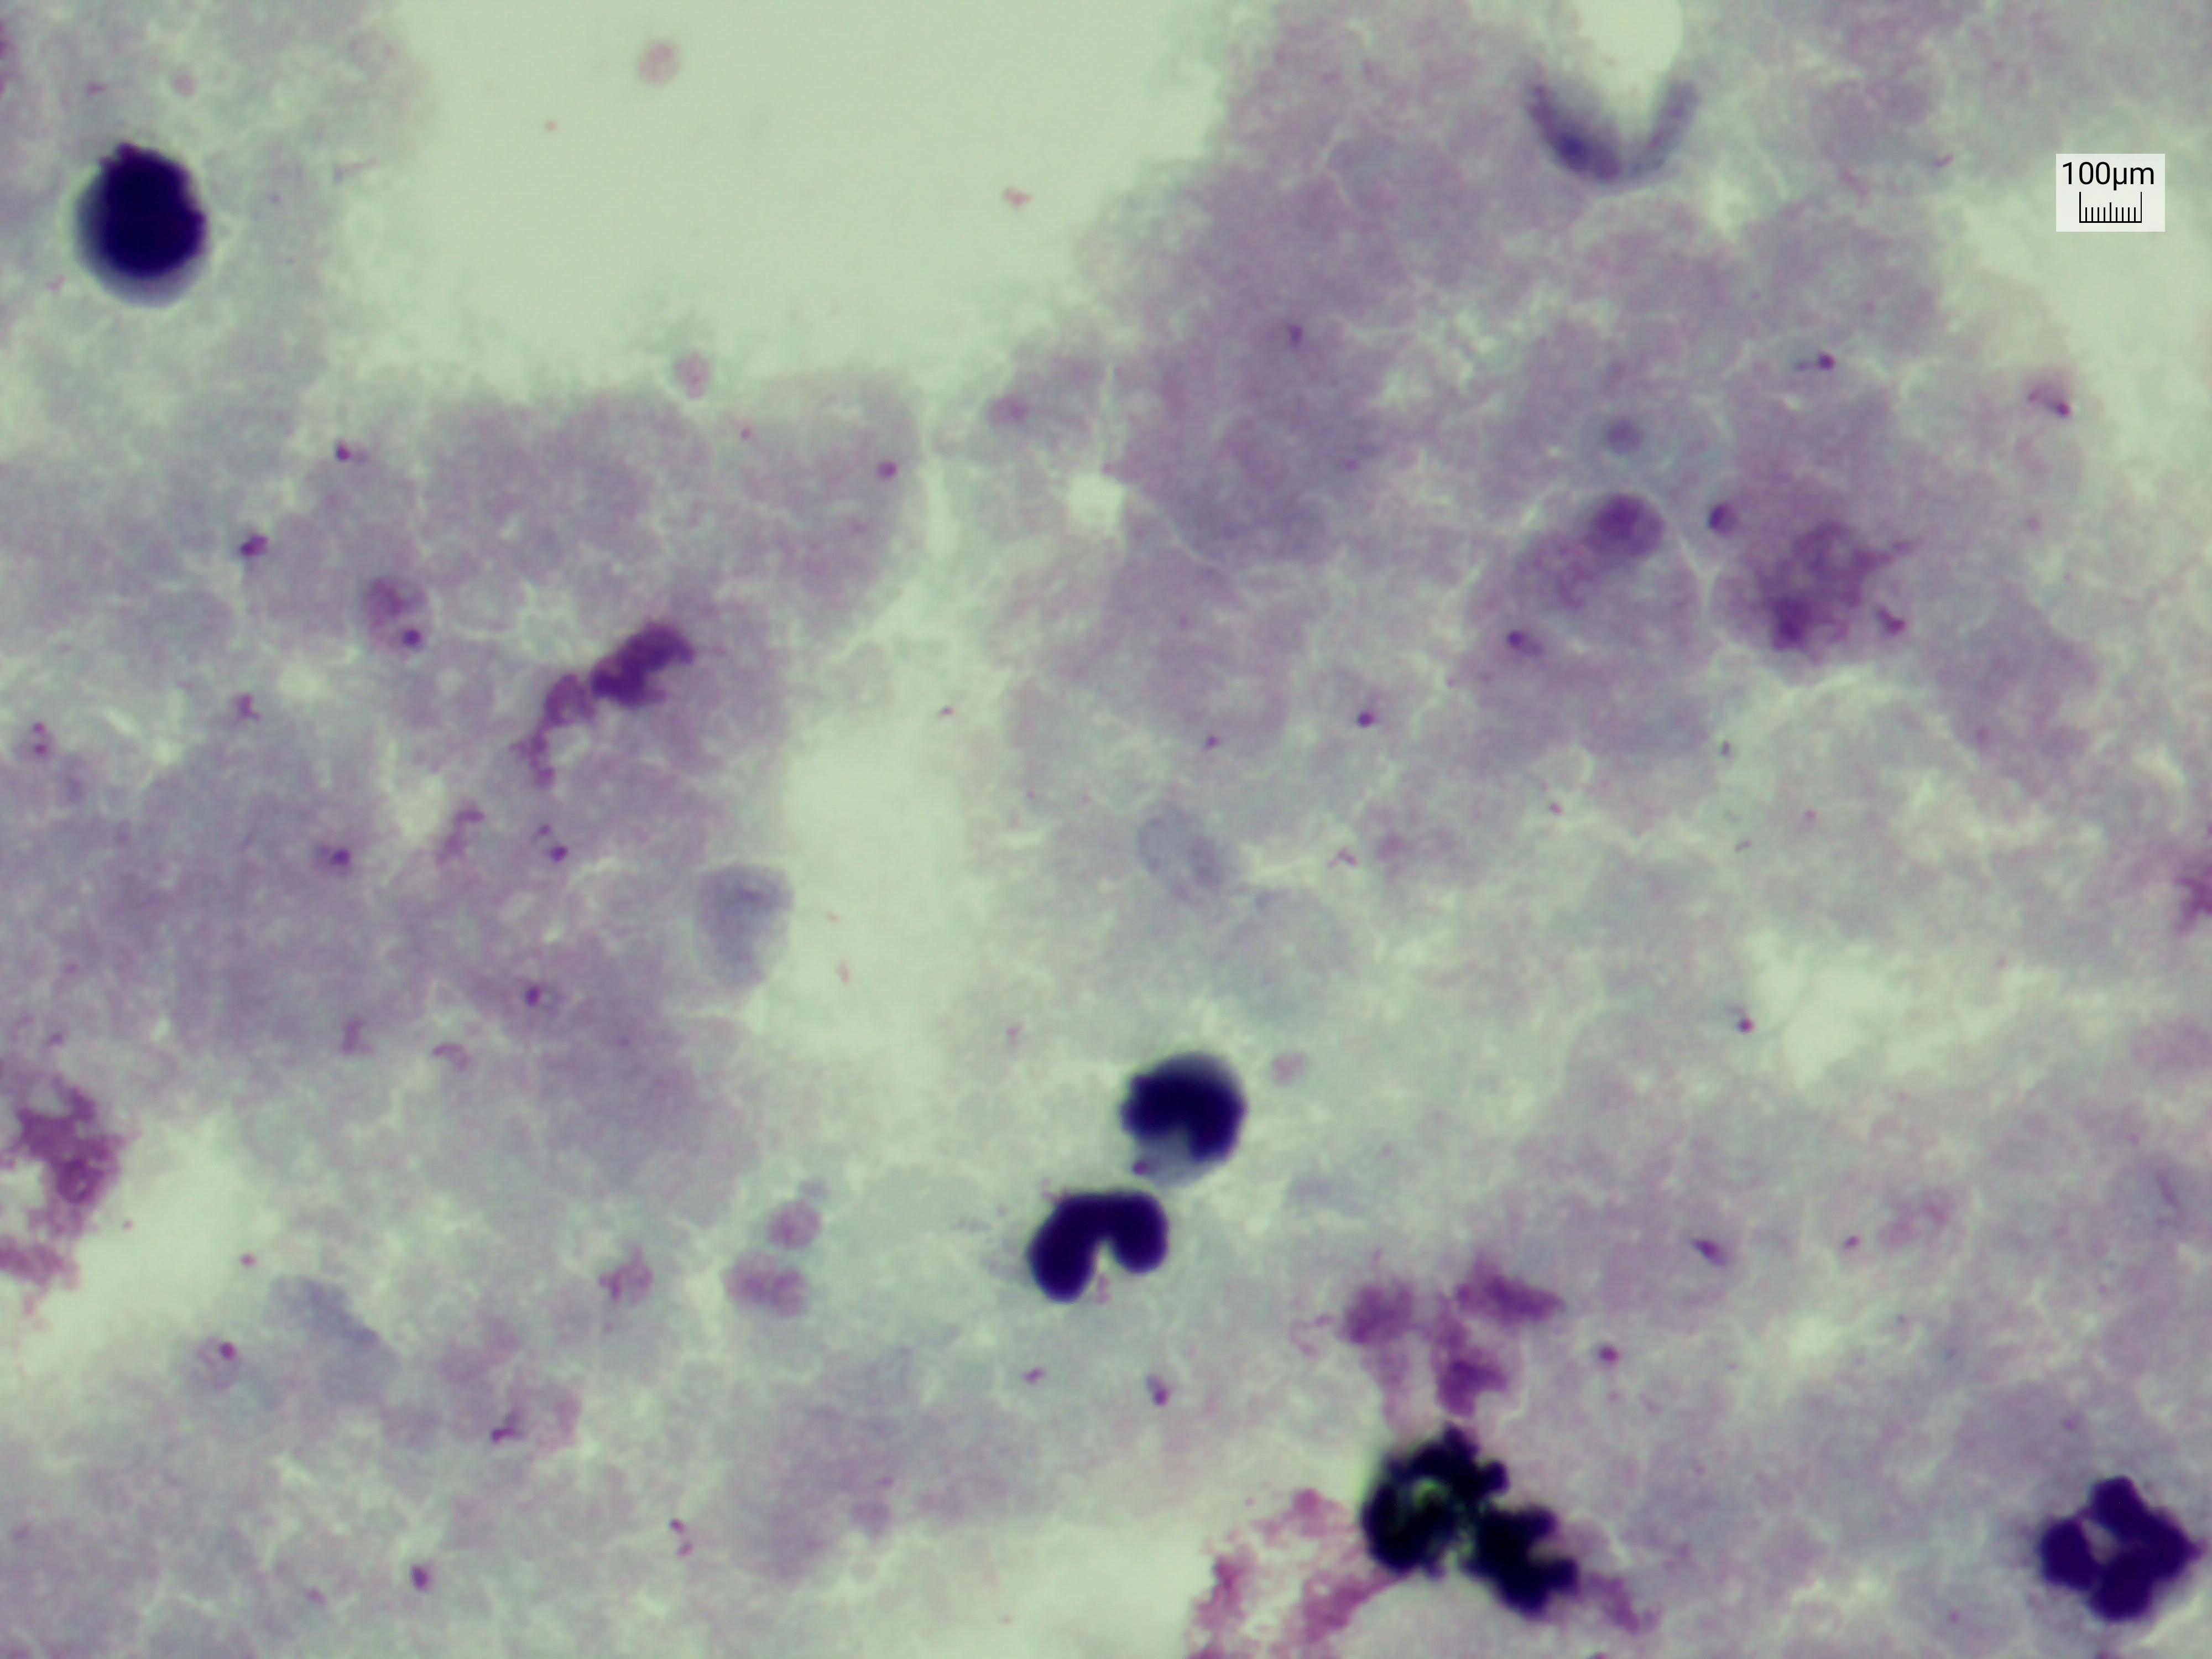p.falciparum: (359, 559, 434, 694), (1703, 969, 1804, 1060), (160, 1317, 261, 1403), (3, 697, 75, 789), (1493, 592, 1554, 694), (489, 957, 577, 1026), (1129, 1352, 1195, 1443), (1825, 1195, 1895, 1281), (310, 413, 404, 471), (479, 1394, 543, 1476), (519, 810, 596, 878), (298, 824, 362, 903), (2024, 375, 2088, 453), (211, 514, 273, 594), (1581, 1305, 1632, 1405), (1338, 678, 1399, 760), (1869, 561, 1918, 657), (392, 1544, 453, 1615), (1792, 321, 1846, 397), (650, 1518, 723, 1570), (1263, 288, 1312, 364), (862, 437, 900, 504)
